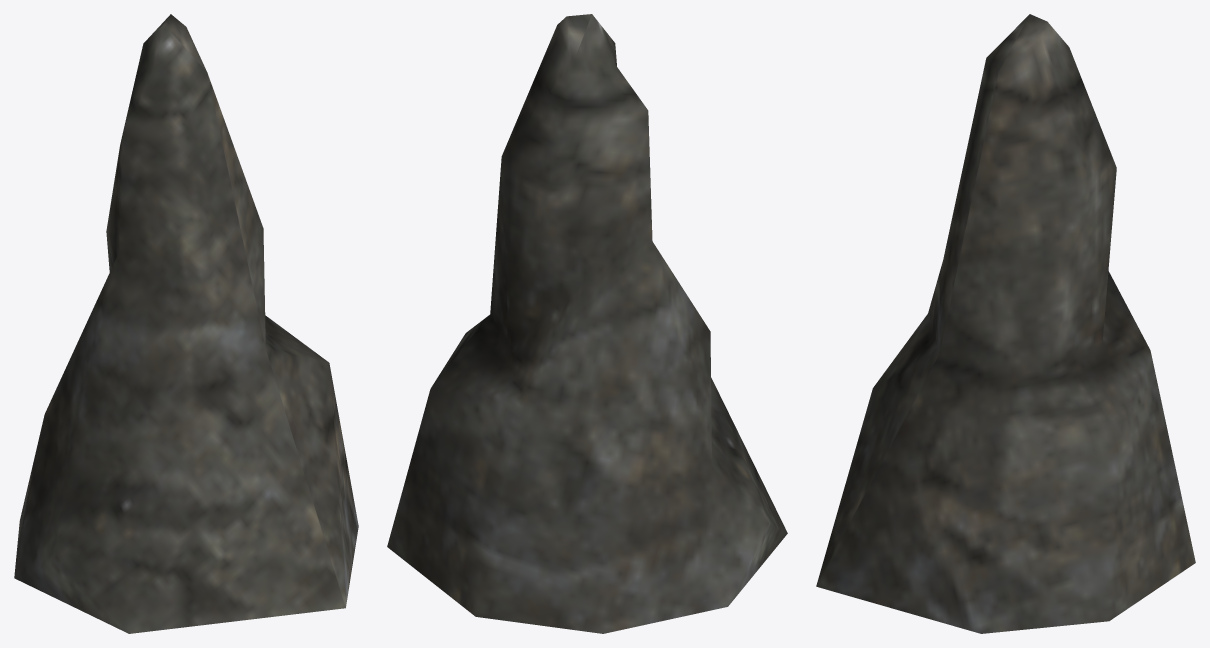
The model's file is Stal2.fbx.
3 renders of one model, left to right at view 1: azimuth 30°, elevation 25°; view 2: azimuth 150°, elevation 25°; view 3: azimuth 270°, elevation 25°, orthographic. The views are drawn at different scales.
Visible parts, largest first — view 1: Stal2_polySurface10; view 2: Stal2_polySurface10; view 3: Stal2_polySurface10.
Boxes of the visible parts, x1,y1,x2,y2 form: Stal2_polySurface10: [14, 14, 358, 633]; Stal2_polySurface10: [387, 14, 787, 633]; Stal2_polySurface10: [816, 14, 1195, 633].
Size of the model in its own units: 0.6522 by 1.06 by 0.6784.
